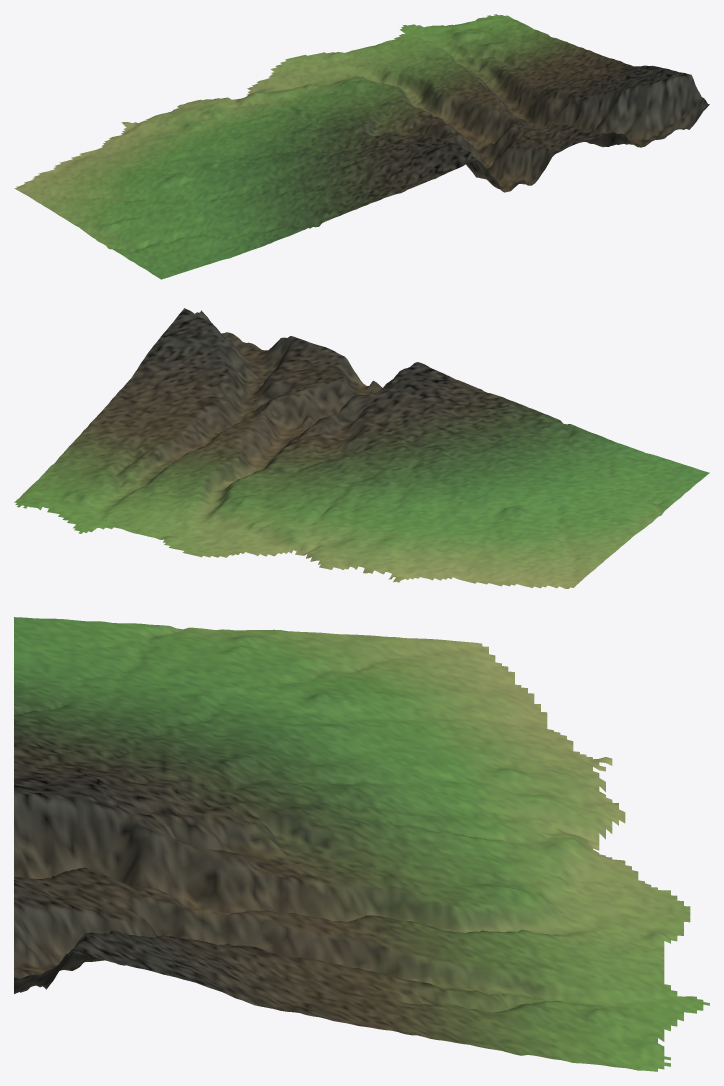
File: lareunion-terrain-2.glb
3 renders of one model, top to bottom at view 1: azimuth 30°, elevation 25°; view 2: azimuth 150°, elevation 25°; view 3: azimuth 270°, elevation 25°, orthographic. The views are drawn at different scales.
Parts seen in each view (by area): view 1: LaReunionRgeAltiTerrain_2; view 2: LaReunionRgeAltiTerrain_2; view 3: LaReunionRgeAltiTerrain_2.
Part boxes in pixels (x1=…): LaReunionRgeAltiTerrain_2: x1=14, y1=14, x2=709, y2=279; LaReunionRgeAltiTerrain_2: x1=14, y1=308, x2=709, y2=588; LaReunionRgeAltiTerrain_2: x1=14, y1=617, x2=709, y2=1071.
Bounding box in the file's own units: 55.09 × 7.27 × 38.01.
